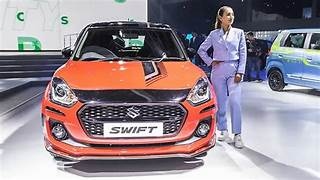Swift: (41, 21, 218, 170)
